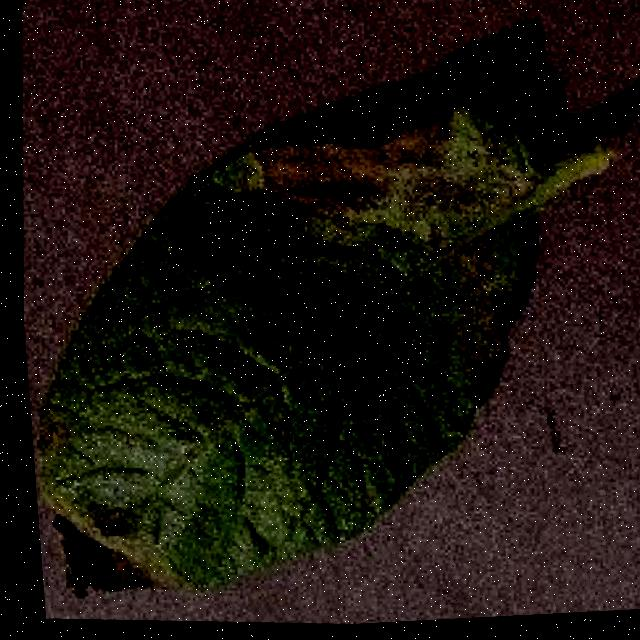Late_blight: (217, 102, 496, 252), (401, 221, 551, 415), (37, 492, 196, 613)
